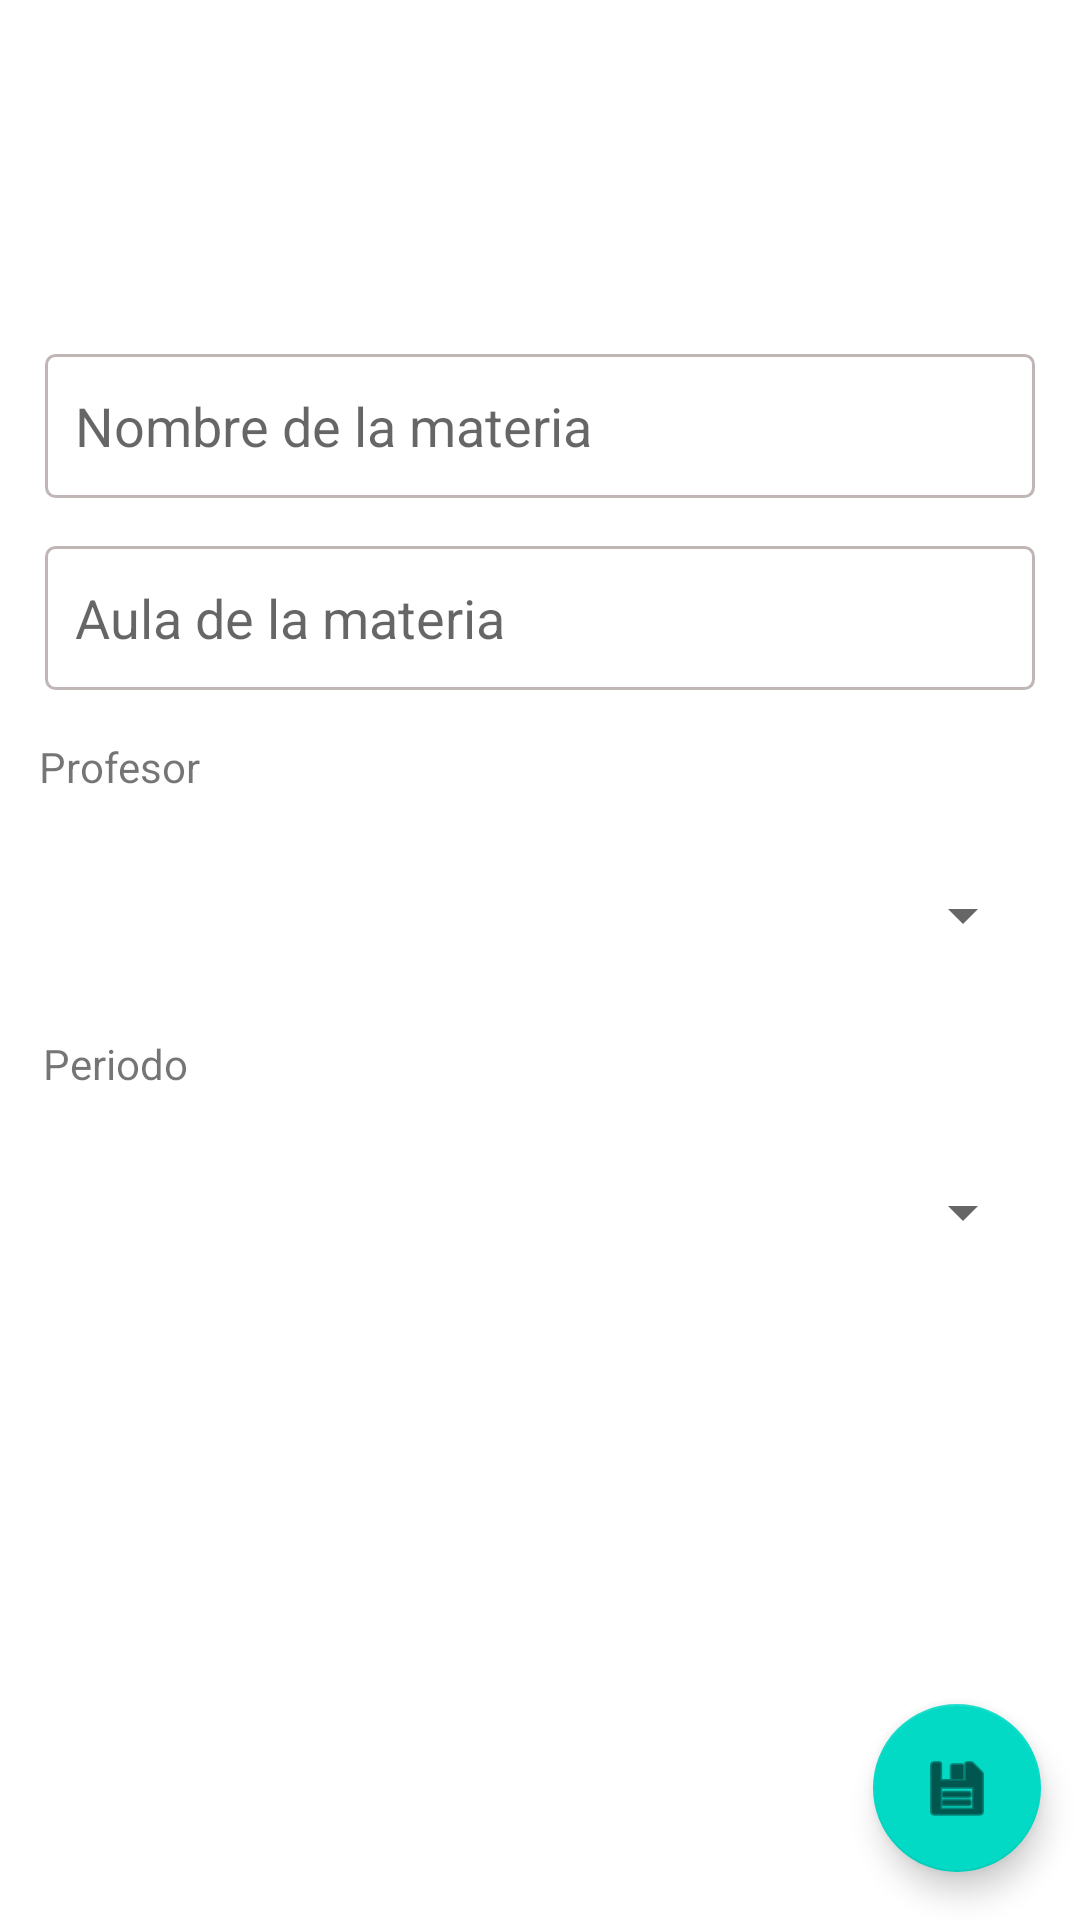

Icons on this 1080 × 1920 Android screen, each with its box as (x1, y1, x2, y2):
save: (873, 1704, 1041, 1872)
